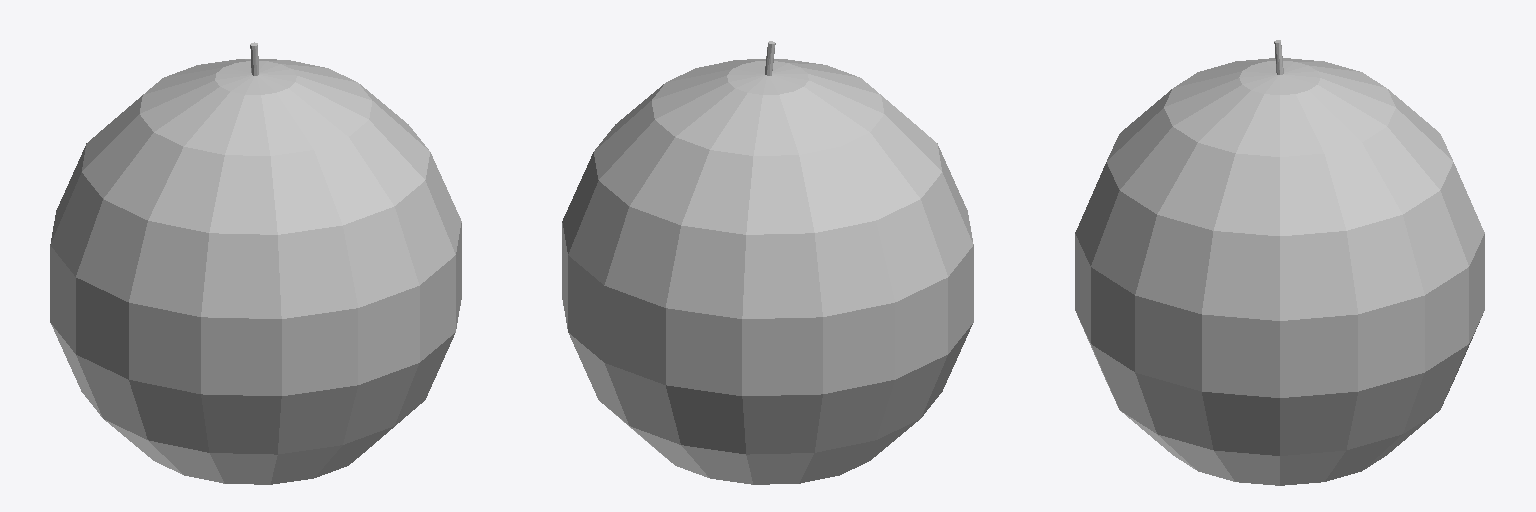
The model's file is bomba.obj.
The picture shows the model from 3 angles: view 1: azimuth 30°, elevation 25°; view 2: azimuth 150°, elevation 25°; view 3: azimuth 270°, elevation 25°; orthographic projection.
Visible parts, largest first — view 1: Sphere; view 2: Sphere; view 3: Sphere.
Boxes of the visible parts, x1,y1,x2,y2 form: Sphere: [50, 42, 461, 484]; Sphere: [562, 41, 973, 484]; Sphere: [1075, 40, 1484, 485].
Bounding box in the file's own units: 1.35 × 1.53 × 1.33.